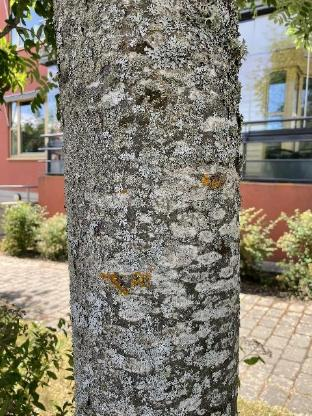tree: (46, 0, 247, 415)
